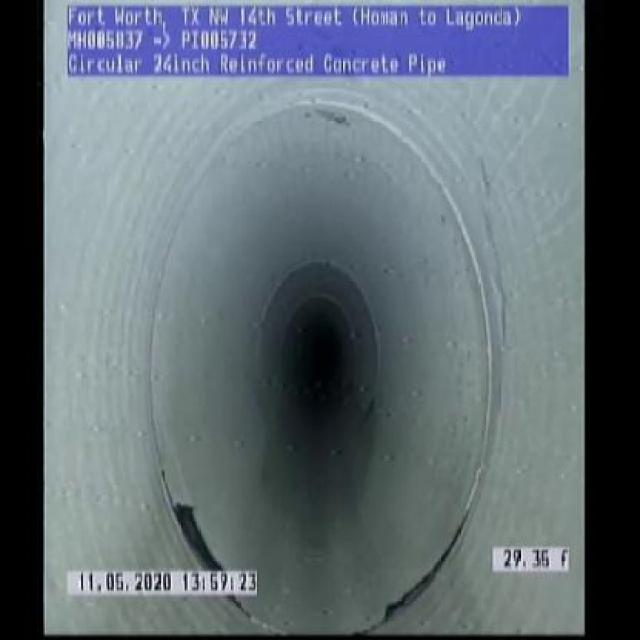Crack: (472, 143, 517, 362)
